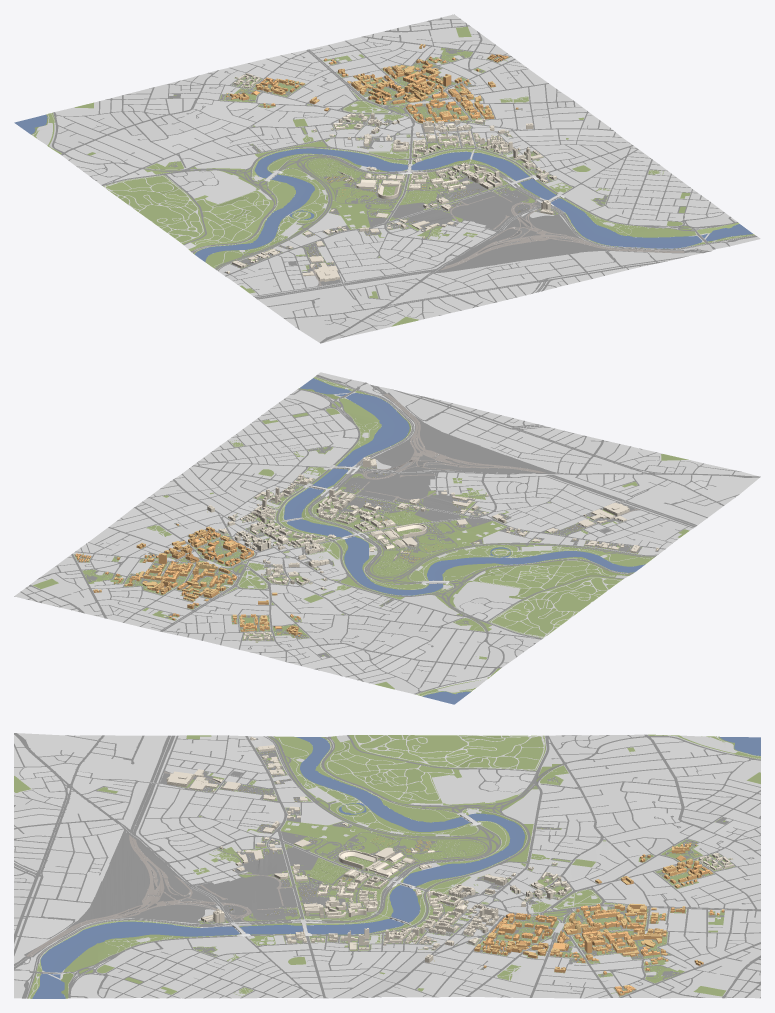
File: map.glb
The picture shows the model from 3 angles, top to bottom: view 1: azimuth 30°, elevation 25°; view 2: azimuth 150°, elevation 25°; view 3: azimuth 270°, elevation 25°; orthographic projection. The views are drawn at different scales.
Parts seen in each view (by area): view 1: base, river, buildings; view 2: base, river, buildings; view 3: base, river, buildings.
Part boxes in pixels (left/top/right/bottom): base: left=31, top=14, right=760, bottom=343; river: left=14, top=114, right=752, bottom=262; buildings: left=226, top=44, right=492, bottom=115; base: left=14, top=372, right=760, bottom=696; river: left=284, top=378, right=645, bottom=704; buildings: left=93, top=529, right=302, bottom=637; base: left=14, top=733, right=760, bottom=998; river: left=32, top=736, right=760, bottom=998; buildings: left=483, top=842, right=724, bottom=974.
Bounding box in the file's own units: 31.42 × 0.7862 × 37.87.
